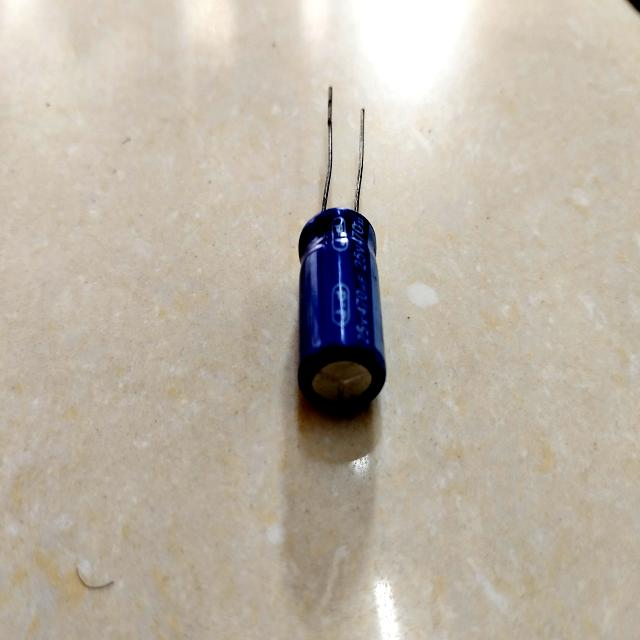capacitor: (298, 208, 386, 430)
